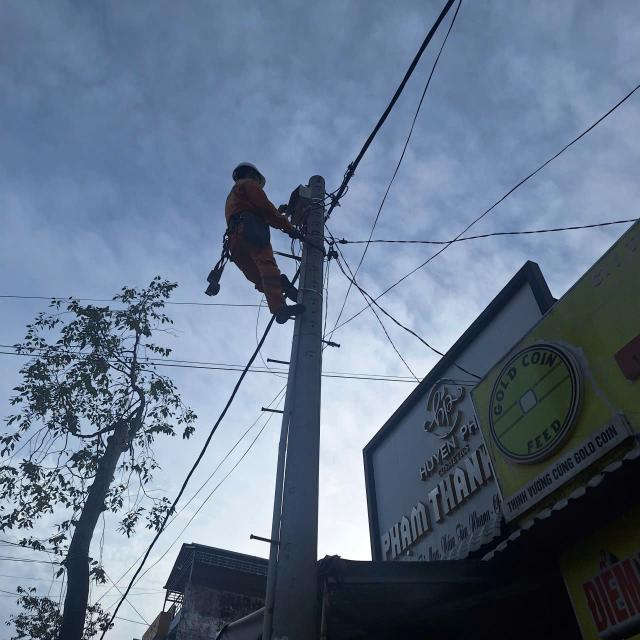gloves: (290, 224, 306, 243)
harness: (223, 204, 274, 233)
shoes: (268, 297, 310, 325), (229, 157, 267, 186), (279, 269, 301, 301)
